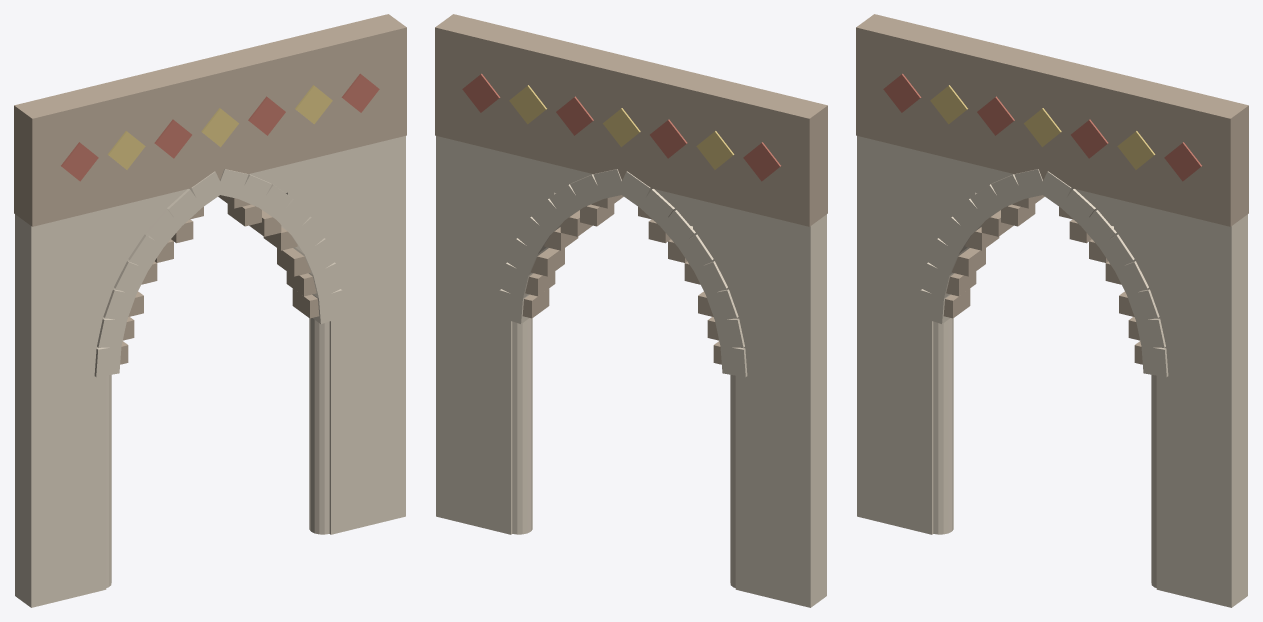
The model's file is sy-alhambra-ornament-panel.glb.
The picture shows the model from 3 angles, left to right: view 1: azimuth 30°, elevation 25°; view 2: azimuth 150°, elevation 25°; view 3: azimuth 330°, elevation 25°; orthographic projection.
Parts seen in each view (by area): view 1: Frieze, Pier_L, Pier_R, Spandrel_L_2, Spandrel_L_1, Column_R, Spandrel_L_3, Spandrel_R_2, Spandrel_L_0, Spandrel_R_3, Spandrel_R_1, Spandrel_R_0 (+28 smaller); view 2: Frieze, Pier_L, Pier_R, Spandrel_L_2, Spandrel_L_1, Column_R, Spandrel_L_3, Spandrel_R_2, Spandrel_L_0, Spandrel_R_3, Spandrel_R_1, Spandrel_R_0 (+28 smaller); view 3: Frieze, Pier_R, Pier_L, Spandrel_R_2, Spandrel_R_1, Column_L, Spandrel_R_3, Spandrel_L_2, Spandrel_R_0, Spandrel_L_3, Spandrel_L_1, Spandrel_L_0 (+28 smaller).
Part boxes in pixels (x1,y1,x2,y2): Frieze: (14, 14, 406, 226); Pier_L: (15, 375, 106, 607); Pier_R: (329, 301, 405, 534); Spandrel_L_2: (15, 226, 148, 294); Spandrel_L_1: (15, 272, 120, 343); Column_R: (309, 318, 329, 534); Spandrel_L_3: (15, 189, 187, 254); Spandrel_R_2: (286, 164, 405, 224); Spandrel_L_0: (15, 326, 100, 392); Spandrel_R_3: (250, 136, 405, 192); Spandrel_R_1: (317, 203, 405, 268); Spandrel_R_0: (337, 252, 405, 315); Frieze: (435, 14, 827, 226); Pier_L: (735, 375, 826, 607); Pier_R: (436, 301, 512, 534); Spandrel_L_2: (693, 226, 826, 294); Spandrel_L_1: (721, 272, 826, 343); Column_R: (512, 318, 532, 534); Spandrel_L_3: (654, 189, 826, 254); Spandrel_R_2: (436, 164, 555, 224); Spandrel_L_0: (741, 326, 826, 392); Spandrel_R_3: (436, 136, 591, 192); Spandrel_R_1: (436, 203, 524, 268); Spandrel_R_0: (436, 252, 504, 315); Frieze: (856, 14, 1248, 226); Pier_R: (1156, 375, 1247, 607); Pier_L: (857, 301, 933, 534); Spandrel_R_2: (1114, 226, 1247, 294); Spandrel_R_1: (1142, 272, 1247, 343); Column_L: (933, 318, 953, 534); Spandrel_R_3: (1075, 189, 1247, 254); Spandrel_L_2: (857, 164, 976, 224); Spandrel_R_0: (1162, 326, 1247, 392); Spandrel_L_3: (857, 136, 1012, 192); Spandrel_L_1: (857, 203, 945, 268); Spandrel_L_0: (857, 252, 925, 315).
Bounding box in the file's own units: 4 × 5 × 0.38.
